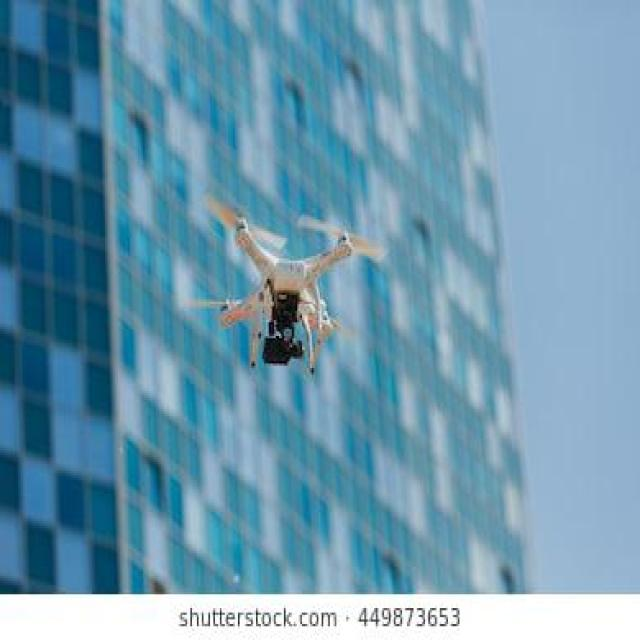drone: (171, 183, 392, 384)
